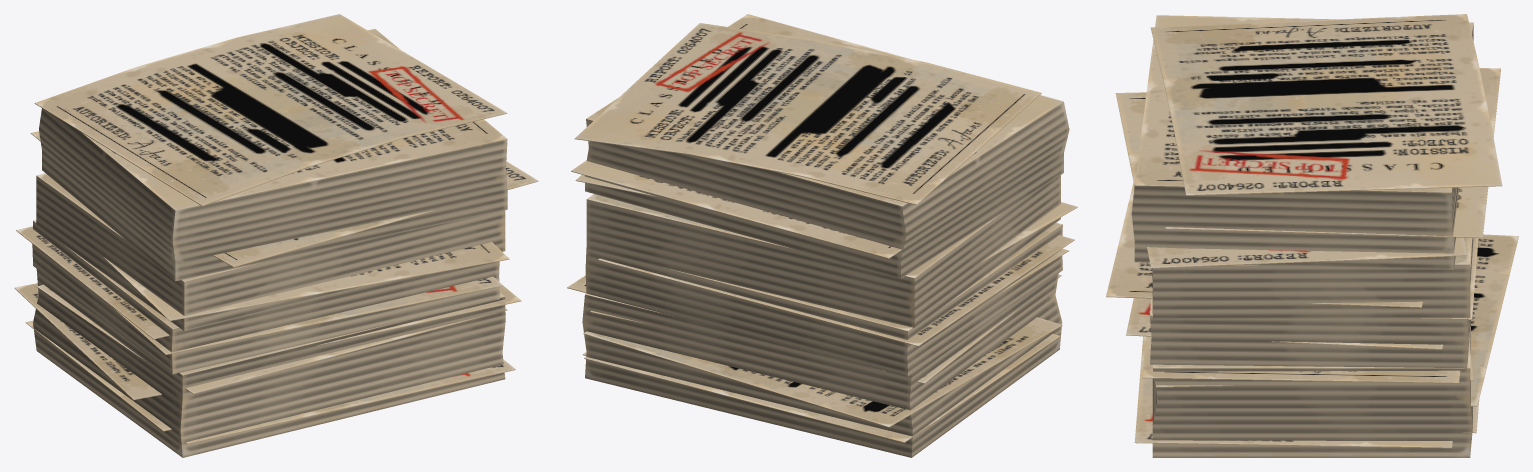
Rendered from paper01_E.fbx.
3 views of the same model, side by side, from view 1: azimuth 30°, elevation 25°; view 2: azimuth 150°, elevation 25°; view 3: azimuth 270°, elevation 25° (orthographic). The views are drawn at different scales.
Visible parts, largest first — view 1: paper01_E; view 2: paper01_E; view 3: paper01_E.
Boxes of the visible parts, bbox=[...] form: paper01_E: bbox=[14, 14, 538, 457]; paper01_E: bbox=[567, 14, 1077, 457]; paper01_E: bbox=[1106, 14, 1518, 457].
Bounding box in the file's own units: 32.97 × 21.22 × 28.49.
